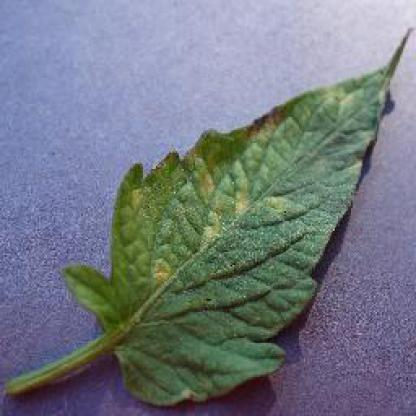bad leaf: (7, 92, 368, 400), (176, 171, 357, 366), (61, 135, 230, 320), (23, 120, 199, 288), (134, 38, 303, 206), (264, 120, 390, 302), (151, 284, 279, 408), (304, 27, 414, 138)
